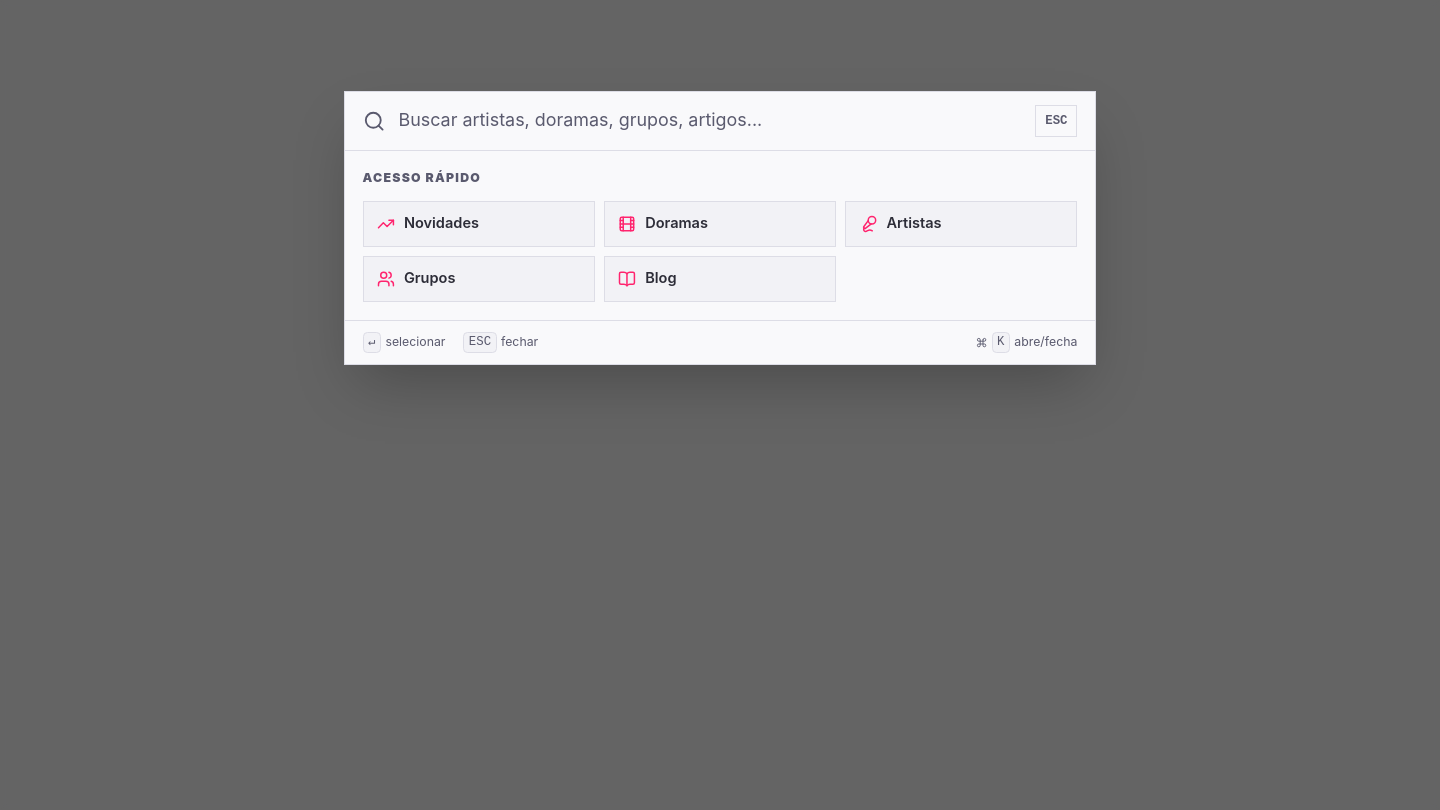
Test: QuickSearch › clicar em "Limpar" (X) esvazia a query
The width and height of the screenshot is (1440, 810).
In the dropdown: (710, 121) [398,107,1022,134], type "bts"
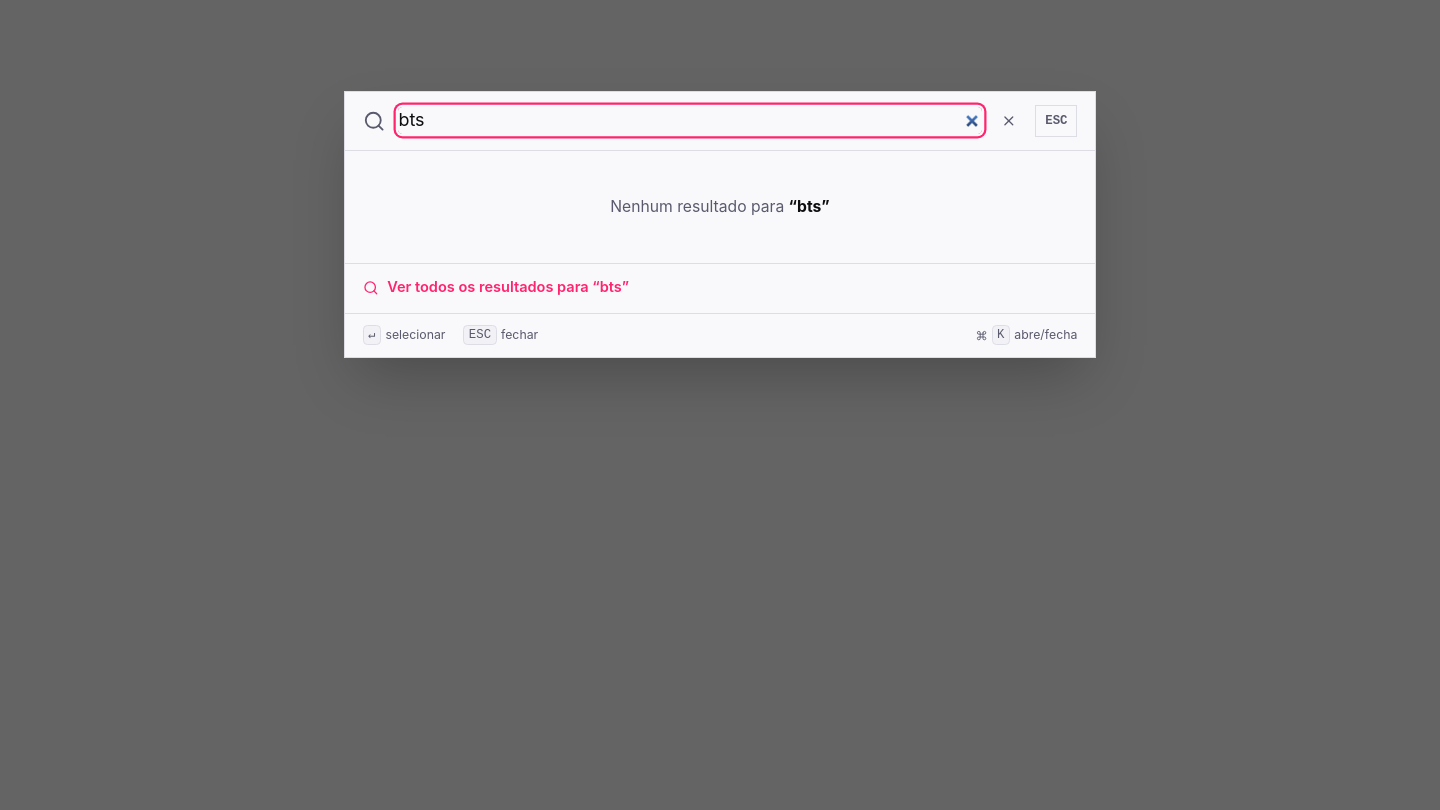
Click the button named "limpar": (1008, 121) [995,107,1022,134]
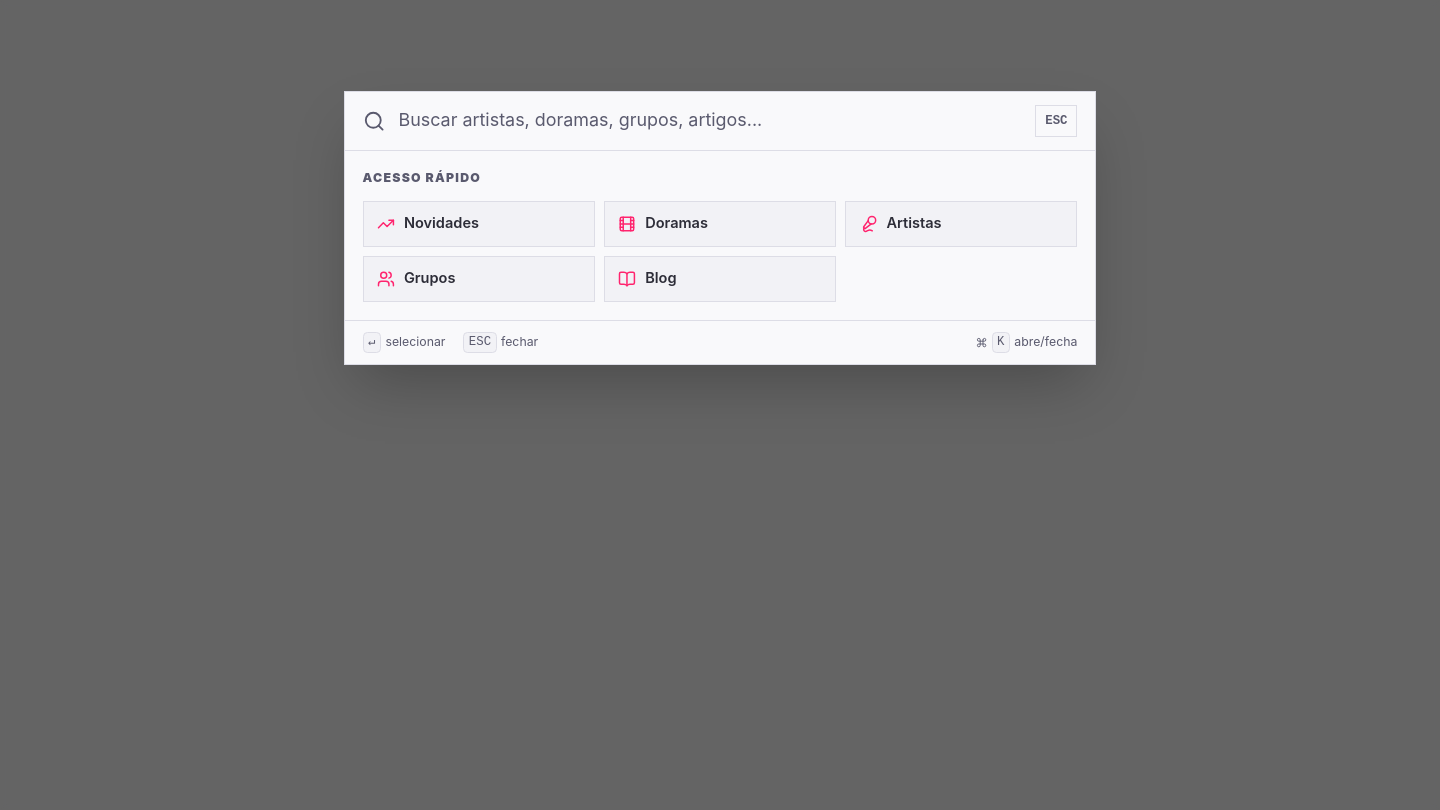
Expected: the dropdown is empty, [398,107,1022,134]
